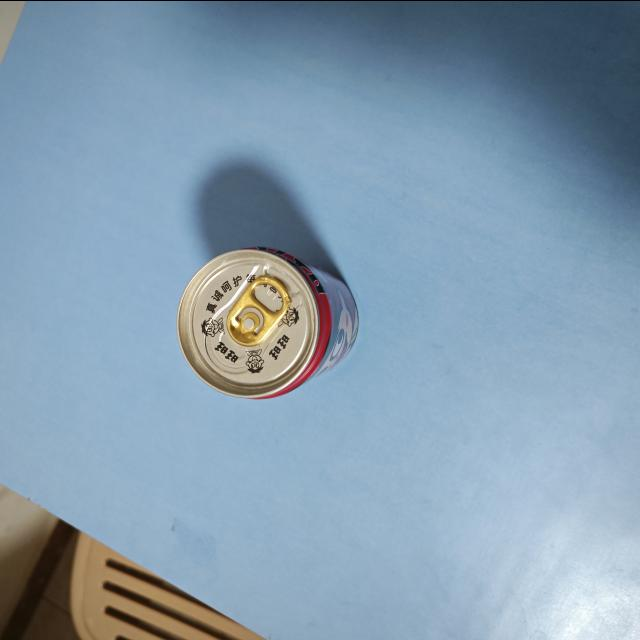-Recyclables - can-: (173, 246, 350, 398)
